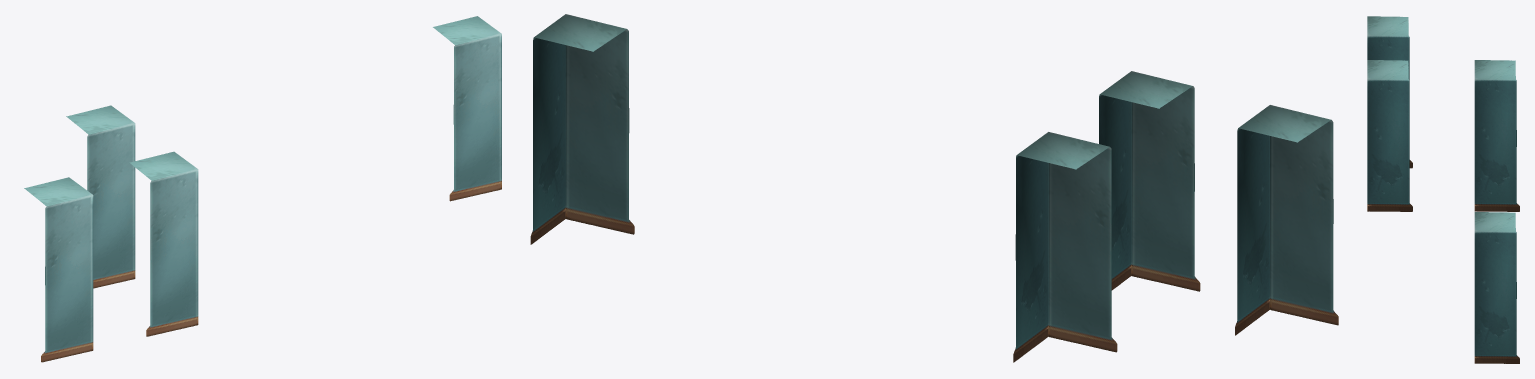
The model's file is K1_pillar.FBX.
3 views of the same model, side by side, from view 1: azimuth 30°, elevation 25°; view 2: azimuth 150°, elevation 25°; view 3: azimuth 270°, elevation 25° (orthographic). The views are drawn at different scales.
Parts seen in each view (by area): view 1: cs_pillar; view 2: cs_pillar; view 3: cs_pillar.
Part boxes in pixels (x1=…): cs_pillar: x1=24, y1=16, x2=501, y2=362; cs_pillar: x1=530, y1=14, x2=1338, y2=362; cs_pillar: x1=1367, y1=16, x2=1519, y2=363.
Bounding box in the file's own units: 439 × 126 × 131.
